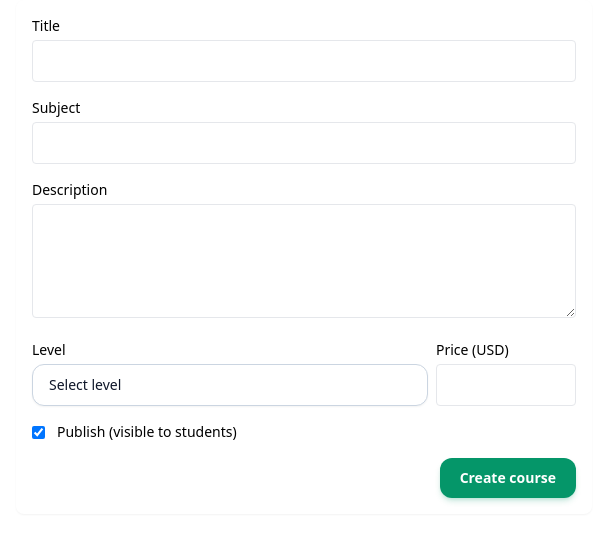
Test: CreateCourseForm › shows error when title is empty but subject is filled (NFR4)
# subject input is the second textbox
Type "Maths" into the field below "Subject" at (304, 143), box [32,122,576,164]
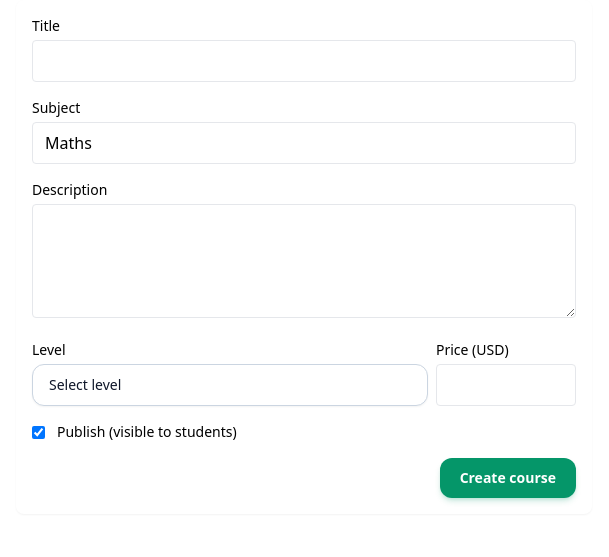
Submit the form
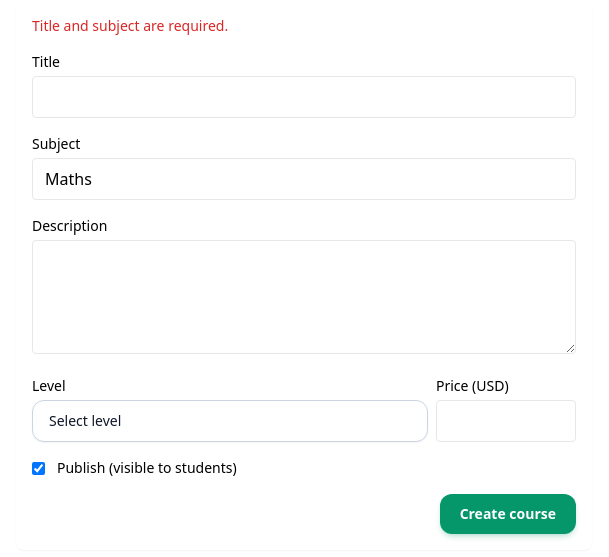
Expected: the text "Title and subject are required." is shown, [32,16,228,35]
